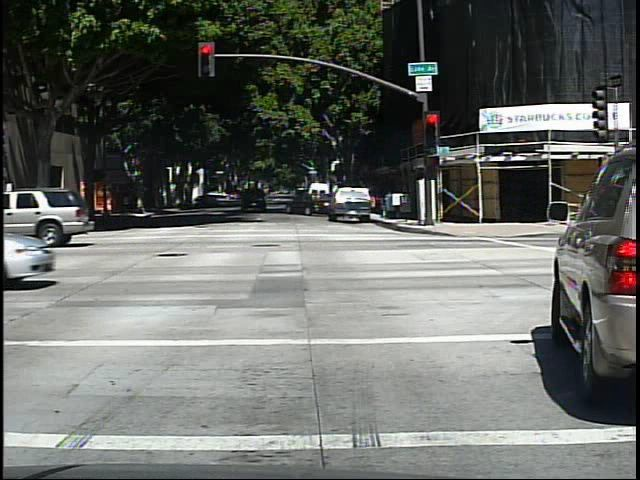person: (71, 186, 88, 221)
